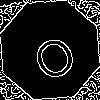O: (25, 25, 81, 84)
